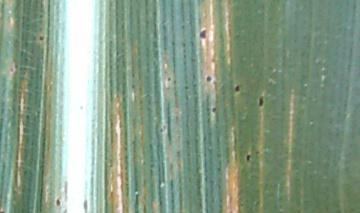tarspot: (197, 26, 209, 40), (257, 93, 266, 110), (80, 197, 89, 213), (204, 73, 213, 83), (158, 123, 167, 133), (54, 197, 62, 208), (37, 33, 46, 42), (244, 154, 252, 163), (233, 84, 241, 93), (8, 65, 15, 75), (211, 106, 218, 115), (165, 75, 171, 83), (183, 84, 189, 91)
